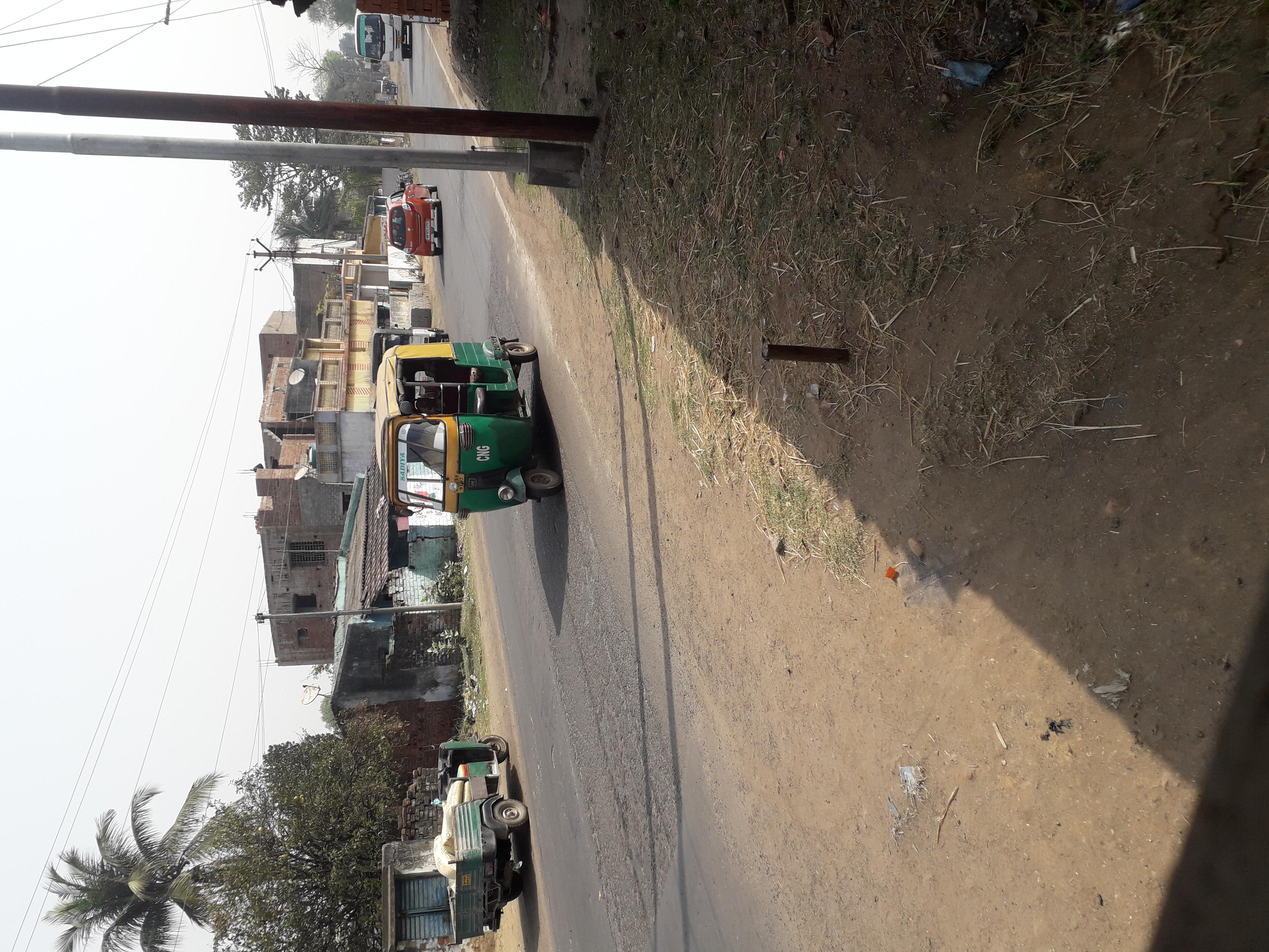Auto: (562, 258, 889, 438)
